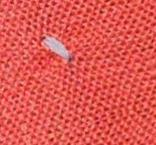hole: (38, 34, 73, 67)
